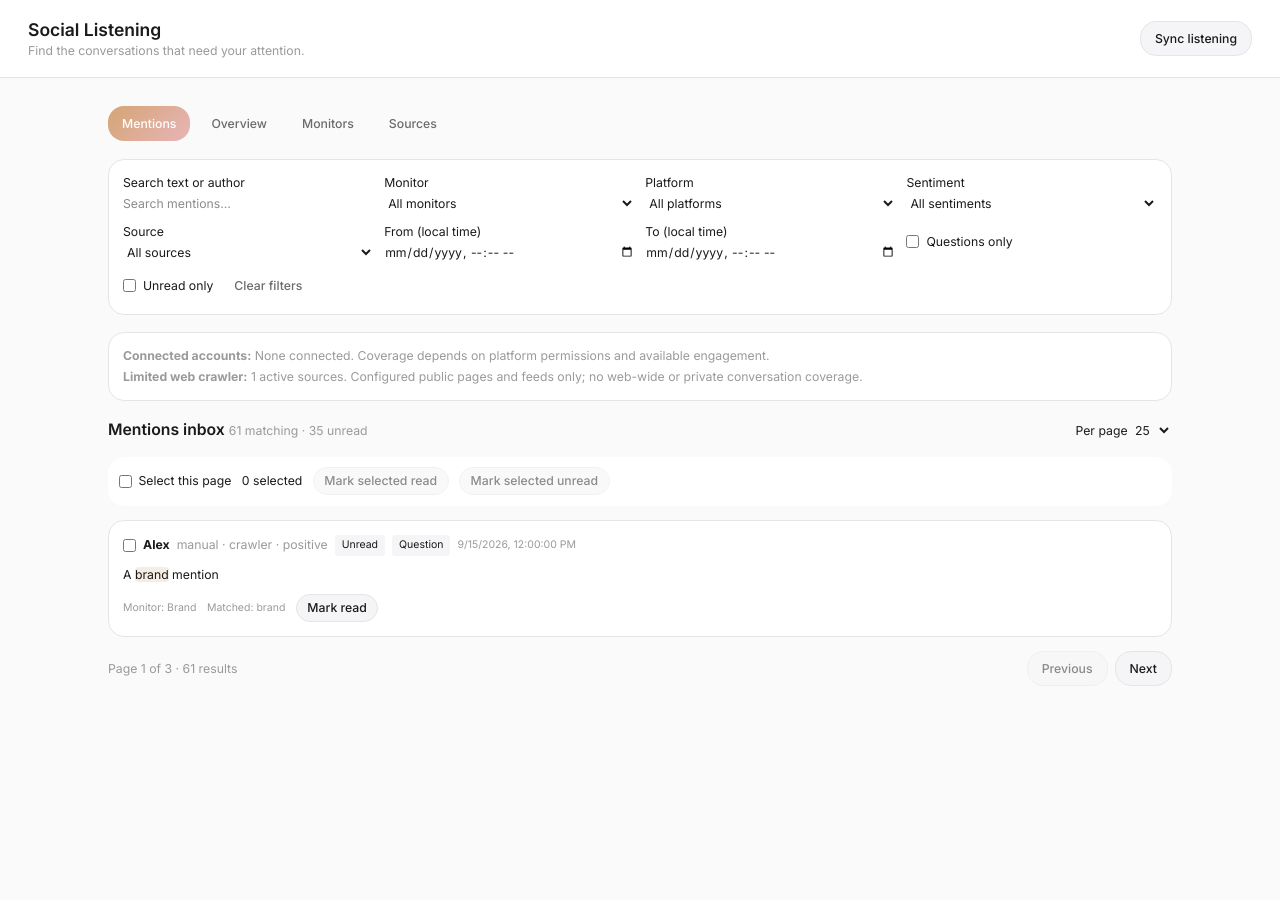
Test case: listening workspace › allows management tabs even when an inbox date range is invalid
This screenshot has width=1280, height=900.
Expected: the text "Alex" is shown, [143,536,170,554]
Type "2026-09-15T10:00" into the field labelled "From (local time)" at (509, 252), box [384,244,635,261]
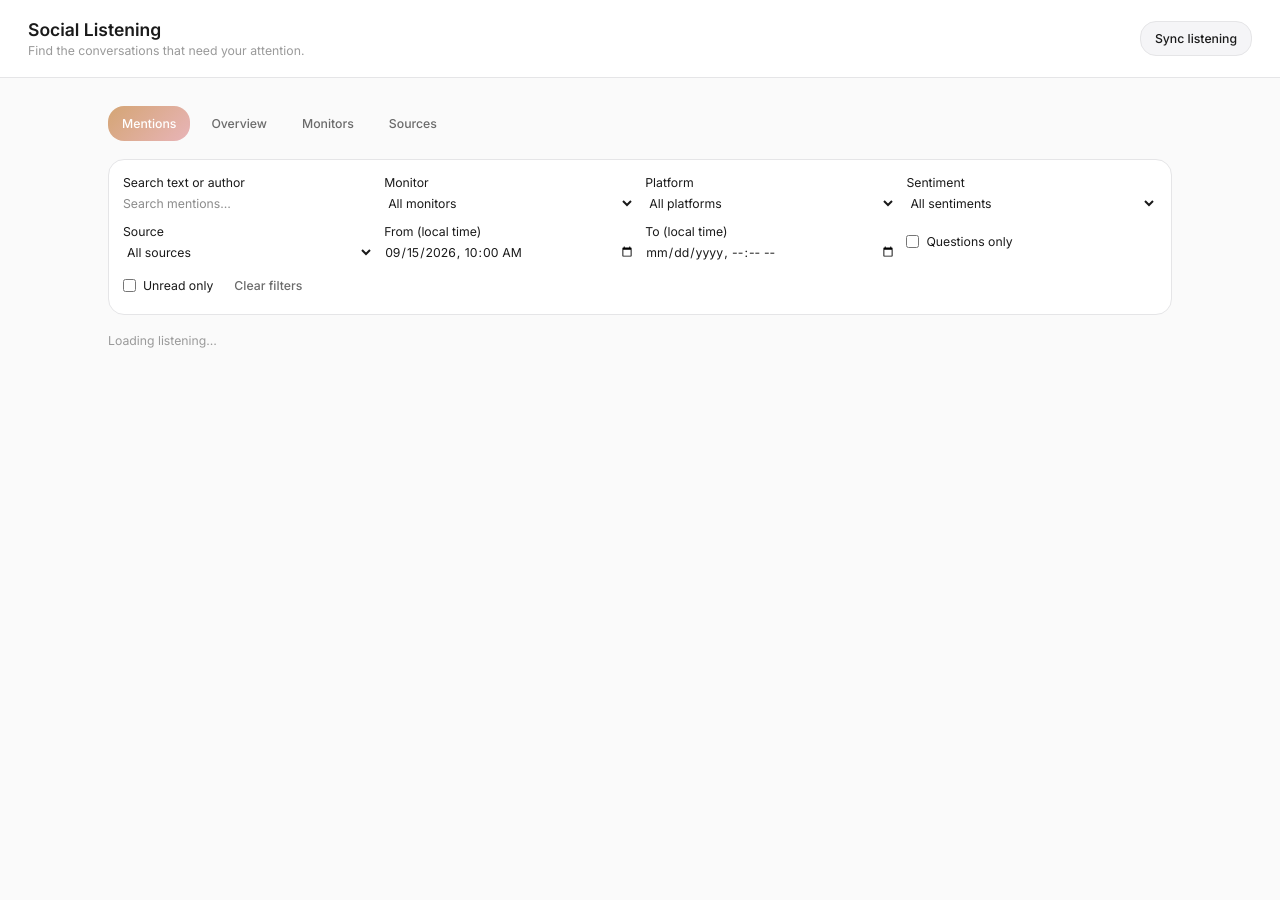
Type "2026-09-01T10:00" into the field labelled "To (local time)" at (771, 252), box [645,244,896,261]
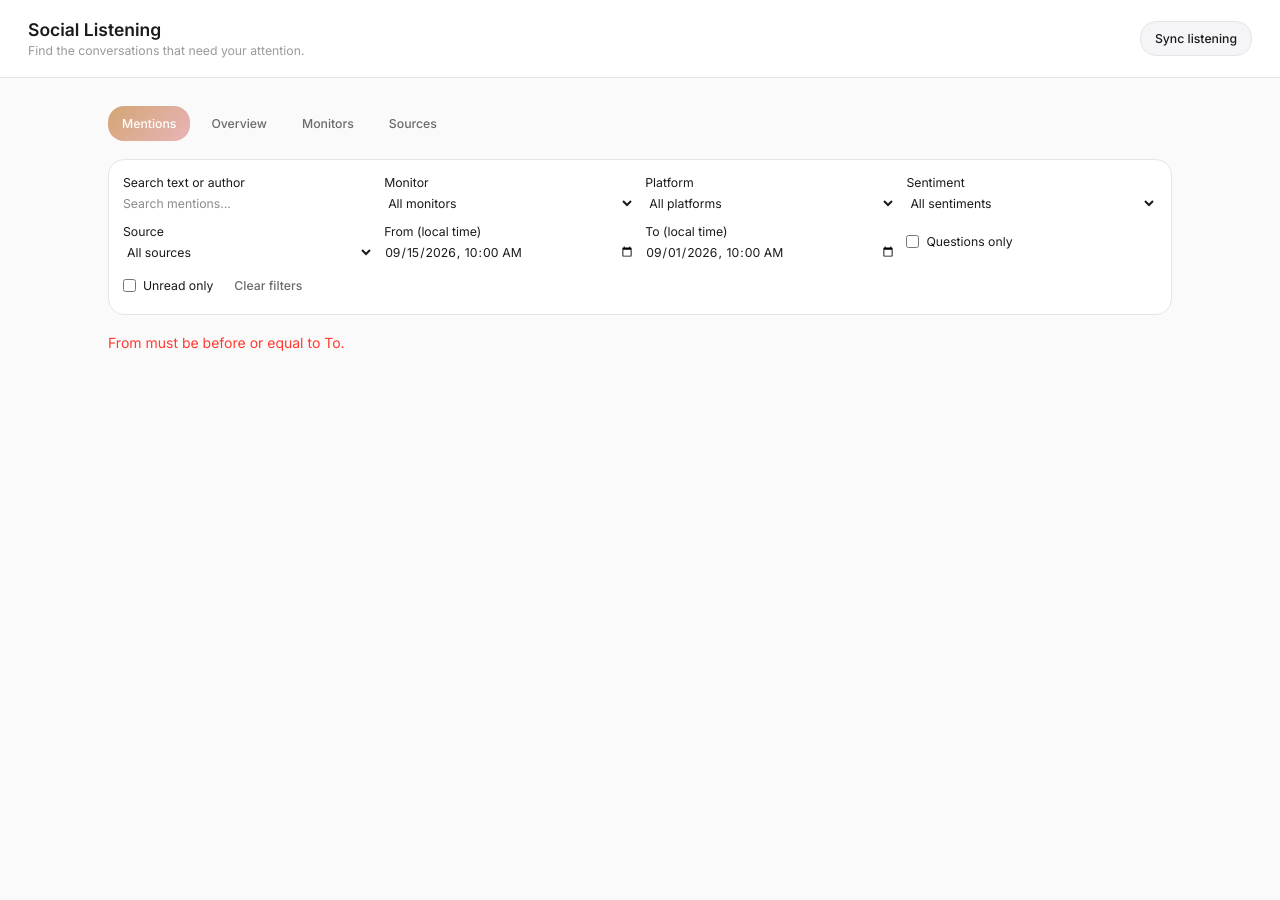
Now the text "From must be before or equal to To." is shown, box [108,334,345,351]
Click the button "Monitors" at (328, 124), box [288,106,368,141]
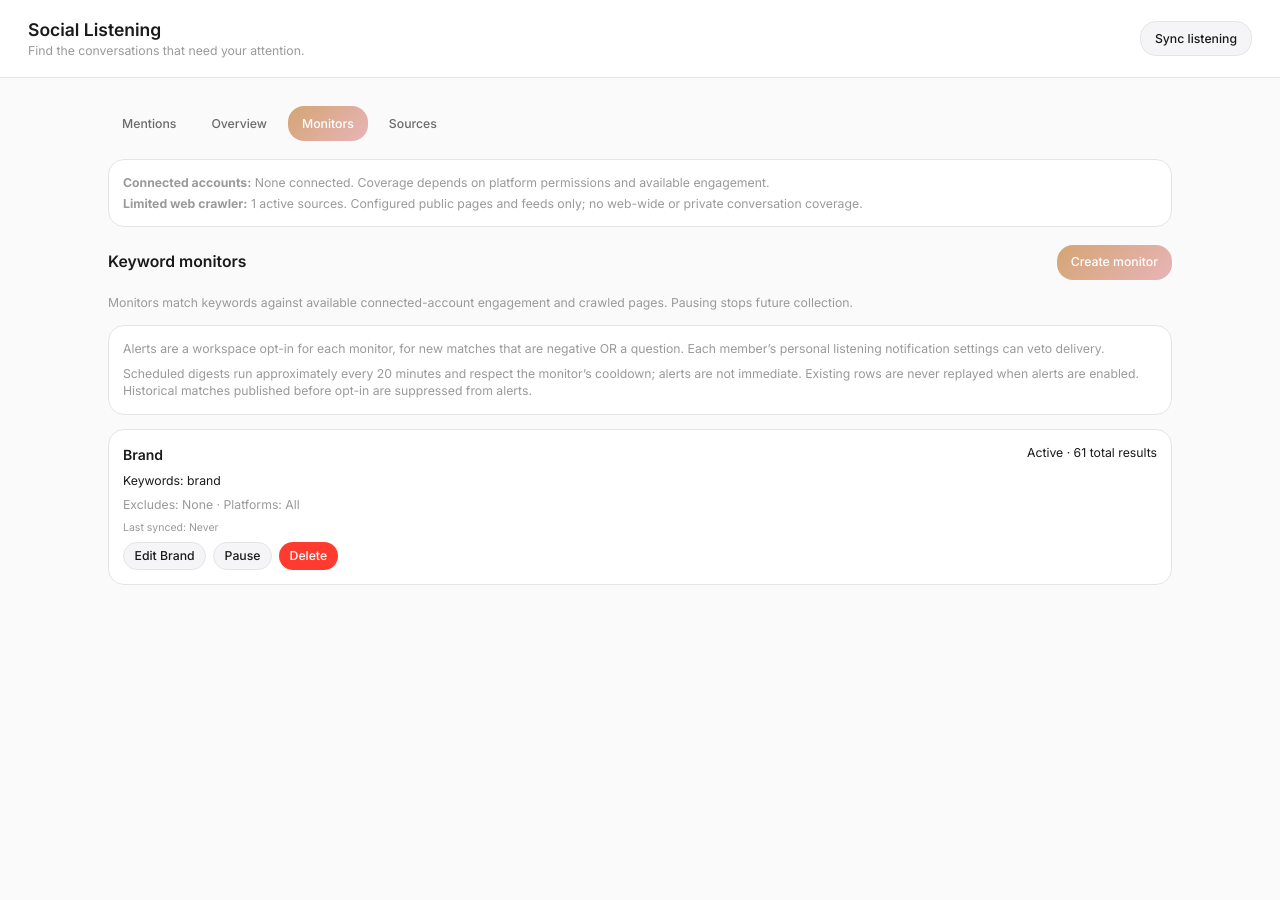
Now the button "Create monitor" is shown, box [1057,244,1172,280]
